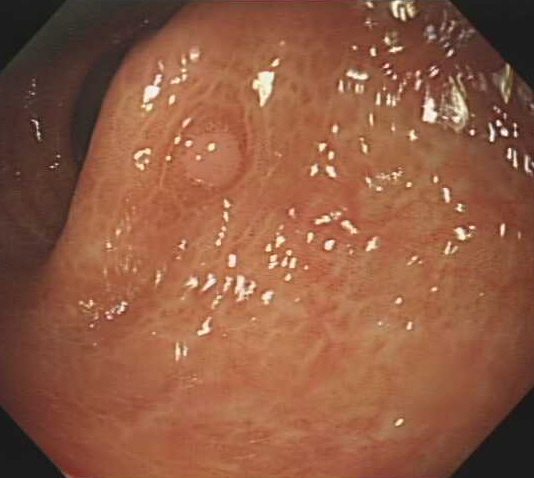others: (178, 124, 245, 191)
